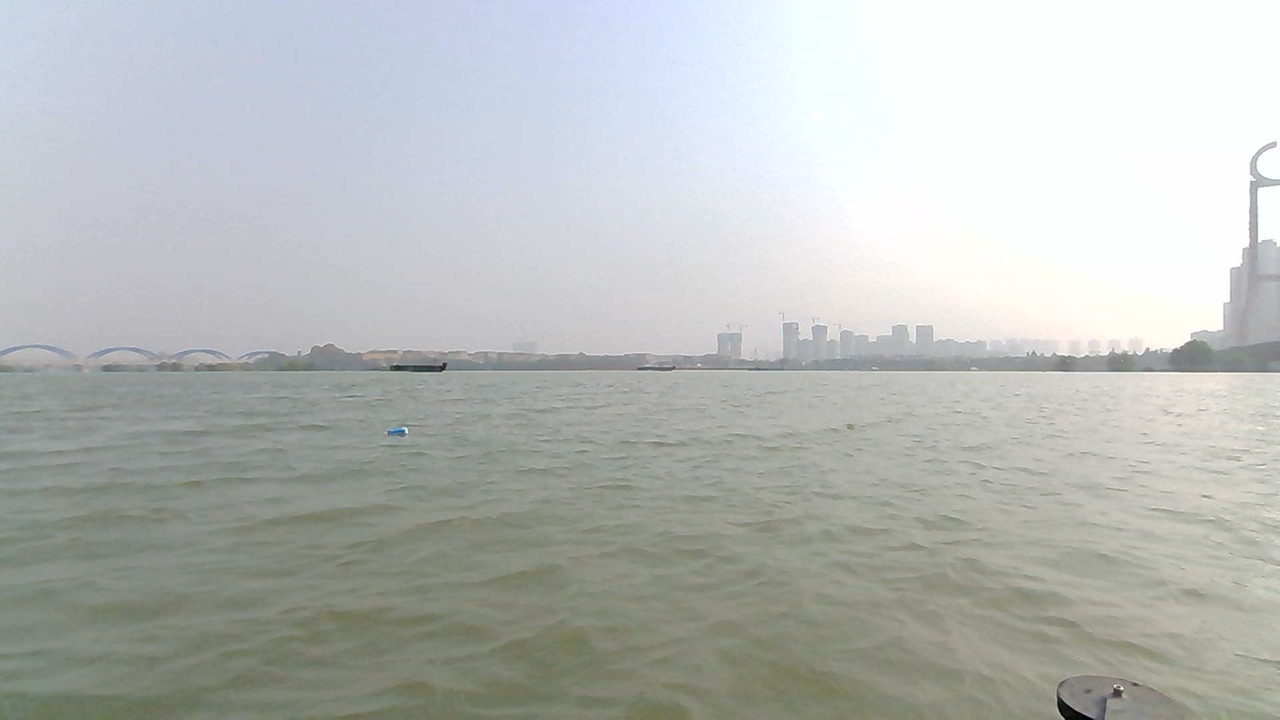bottle: (382, 426, 416, 442)
